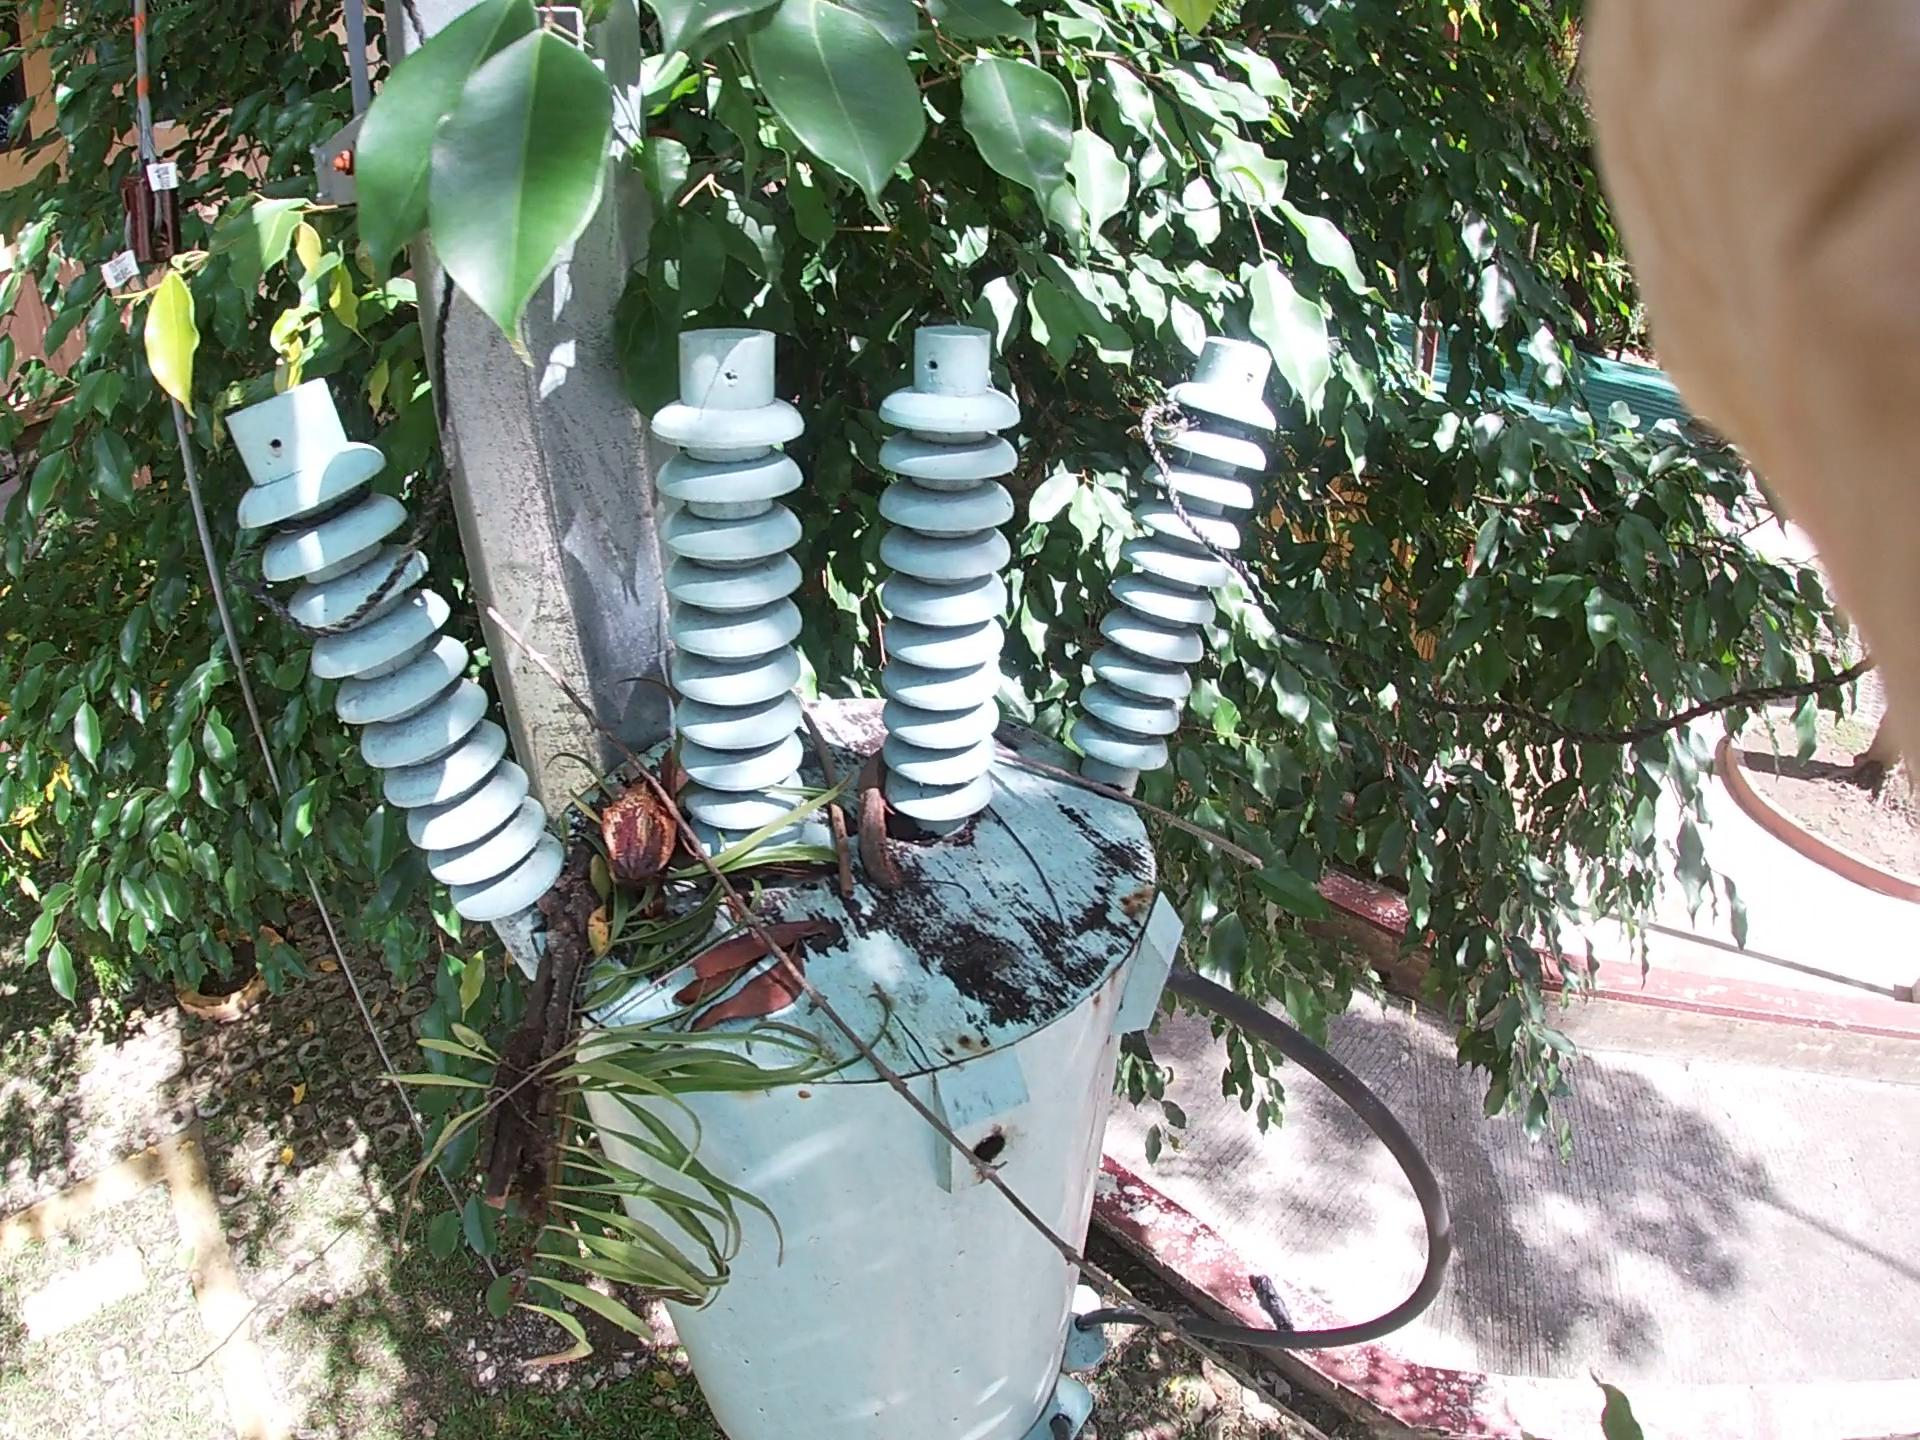branch with leaves: (482, 737, 650, 1209)
leaf: (565, 663, 1125, 1308), (594, 886, 862, 1063)
mahogany fruit: (807, 673, 948, 945), (568, 737, 720, 923)
tree branch: (992, 726, 1279, 920), (807, 729, 897, 977)
